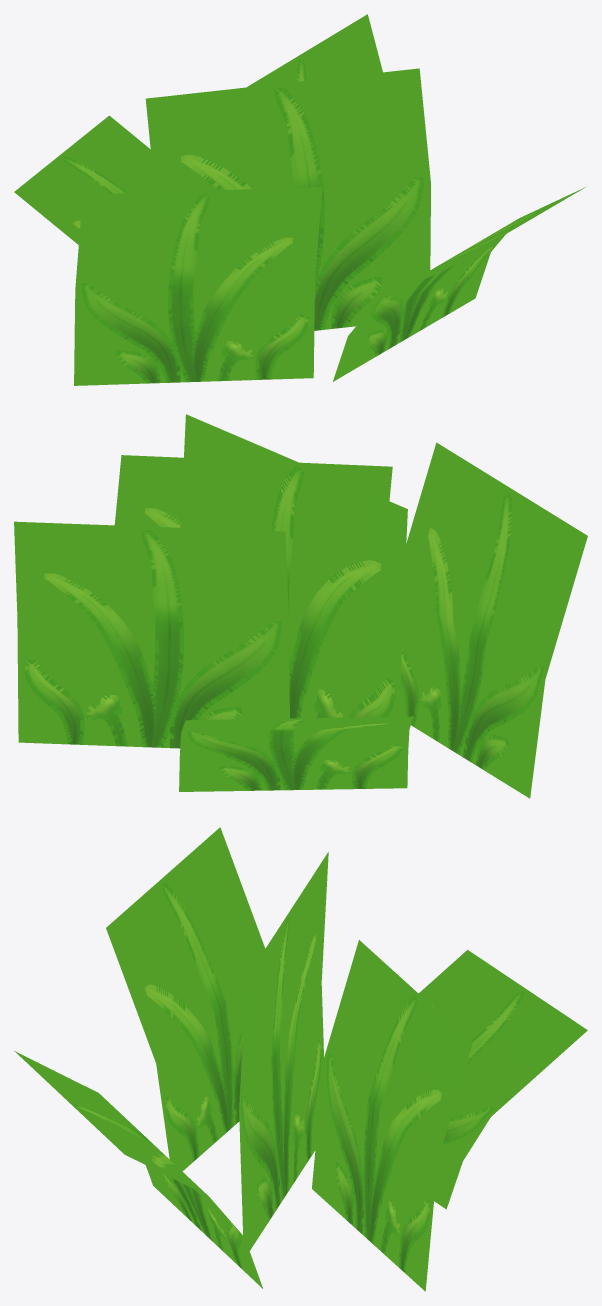
Rendered from grass_01.fbx.
The picture shows the model from 3 angles, top to bottom: view 1: azimuth 30°, elevation 25°; view 2: azimuth 150°, elevation 25°; view 3: azimuth 270°, elevation 25°; orthographic projection. The views are drawn at different scales.
Parts seen in each view (by area): view 1: grass_01; view 2: grass_01; view 3: grass_01.
Part boxes in pixels (left/top/right/bottom): grass_01: left=14, top=14, right=585, bottom=385; grass_01: left=14, top=414, right=587, bottom=798; grass_01: left=14, top=827, right=587, bottom=1291.
Bounding box in the file's own units: 116 × 60.15 × 113.
